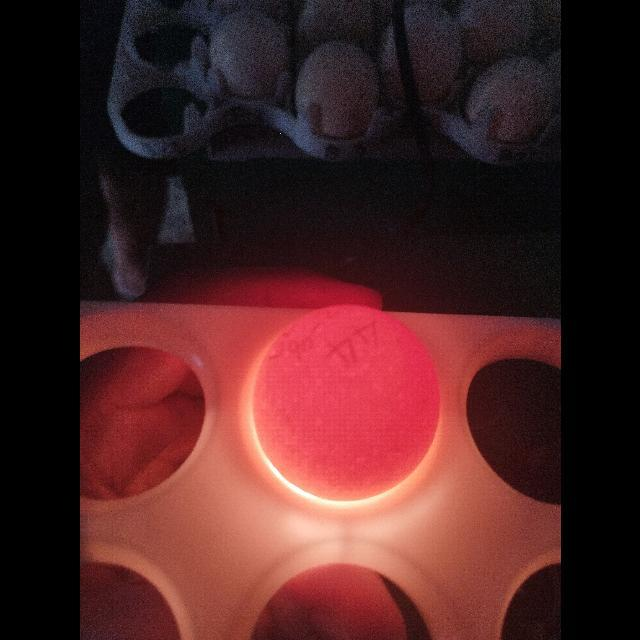Infertile: (248, 302, 444, 506)
